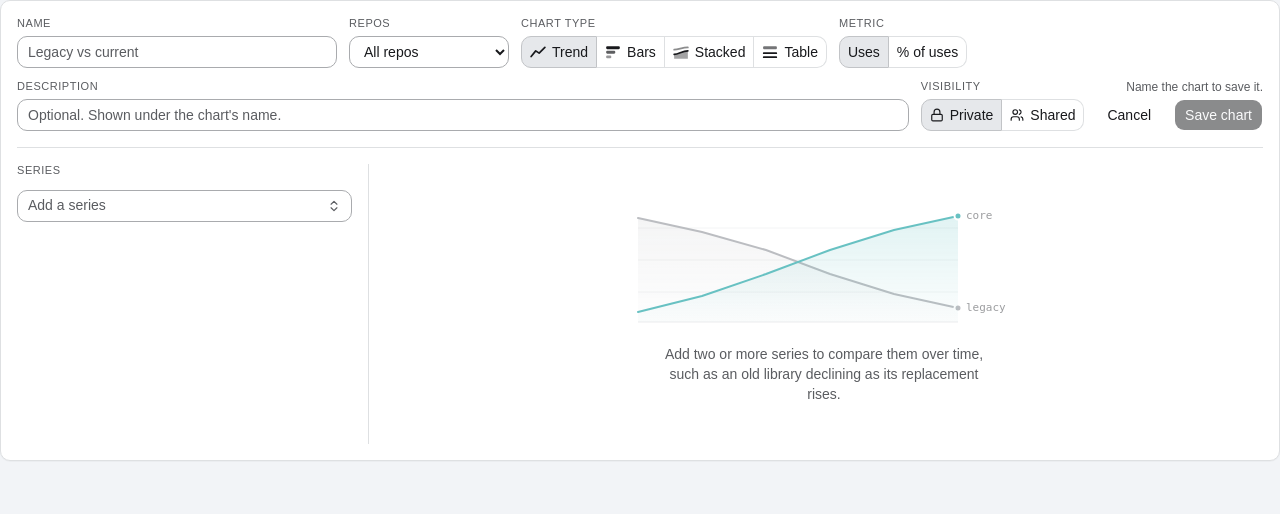
Test: chart builder read availability › shows failed picker data instead of estate-wide options
Select "repo-a" in the dropdown labelled "Repos" at (429, 52), box 349,36 -> 509,68
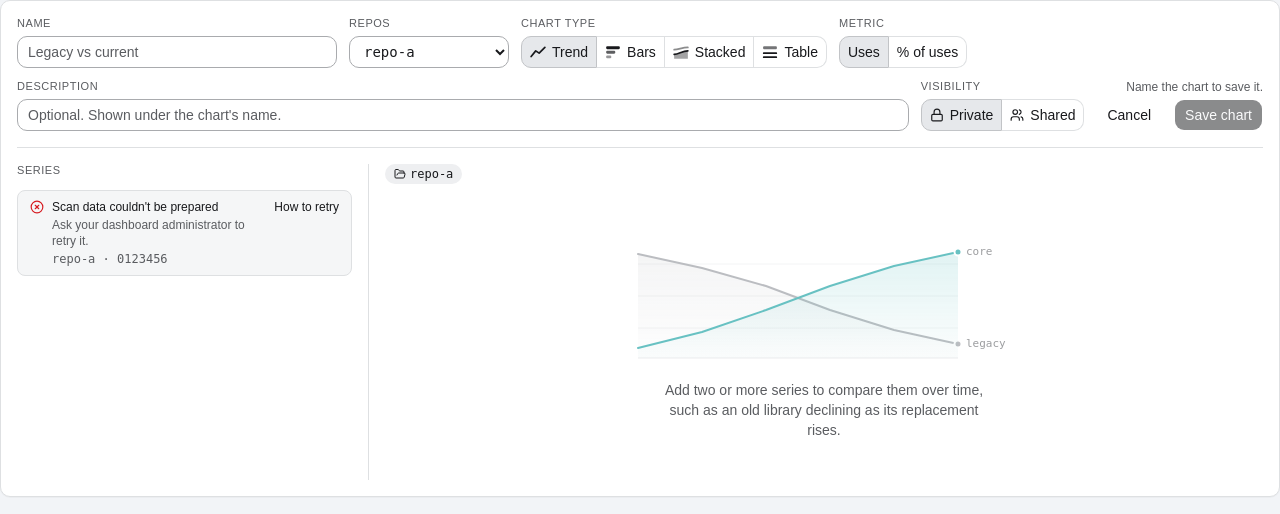
Expected: the dropdown labelled "Add a series" is not shown
Now the text "Scan data couldn't be prepared" is shown, box 52,200 -> 218,214
Now the text "Scan data couldn't be prepared" shows "repo-a · 0123456", box 52,252 -> 168,266
Select "repo-b" in the dropdown labelled "Repos" at (429, 52), box 349,36 -> 509,68
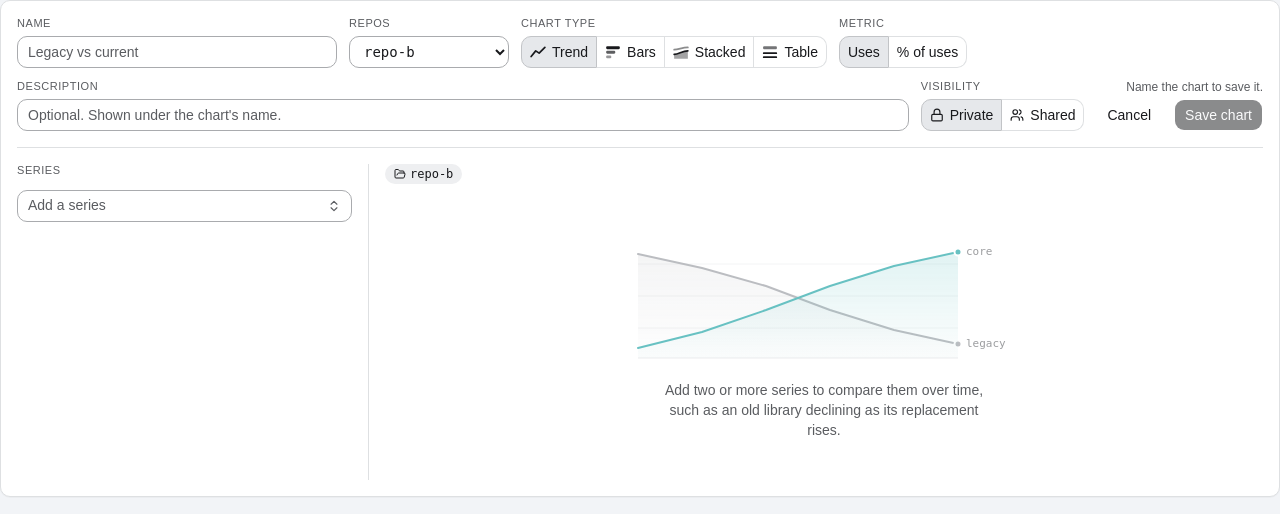
Now the dropdown labelled "Add a series" is shown
Click the dropdown labelled "Add a series" at (174, 206), box 28,191 -> 321,221
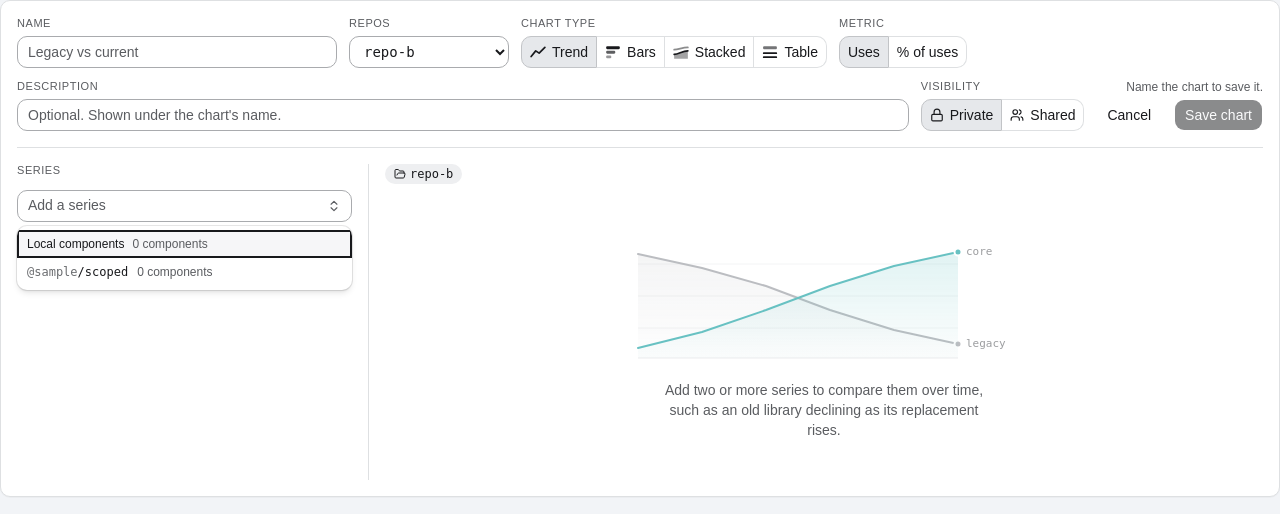
Expected: the text "Scan data couldn't be prepared" is not shown
Now the option "@sample /scoped 0 components" is shown, box 27,265 -> 212,279
